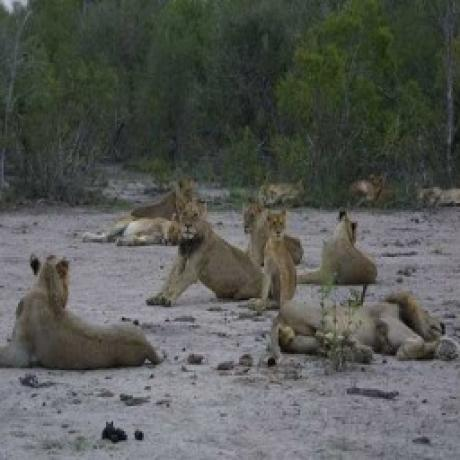Lion: (0, 252, 161, 370), (263, 288, 460, 363), (150, 194, 261, 310), (312, 207, 380, 285), (239, 199, 306, 265), (79, 208, 181, 250), (261, 206, 297, 295)
